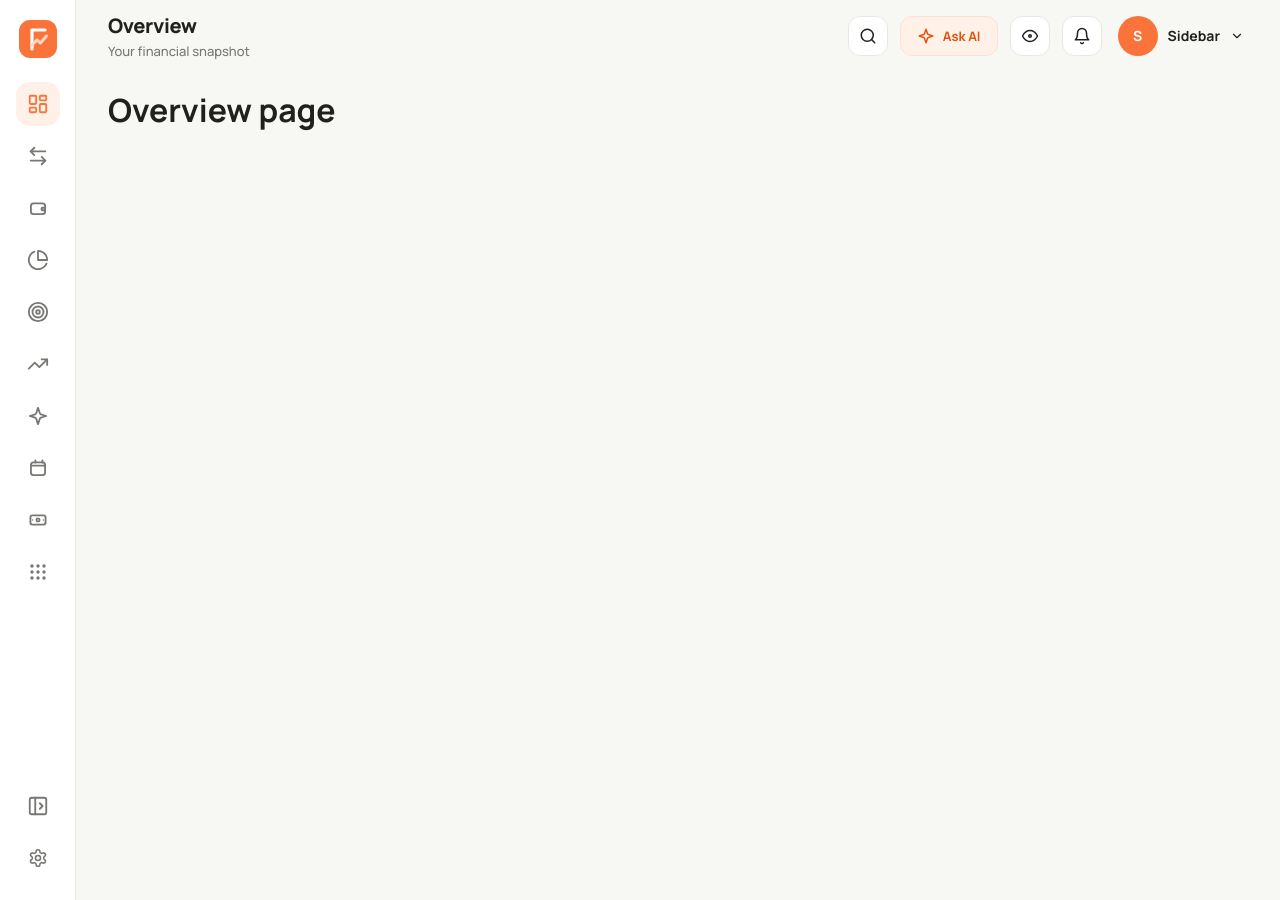
Test: starts minimized and supports keyboard toggle, tooltip and persistence
Press Tab
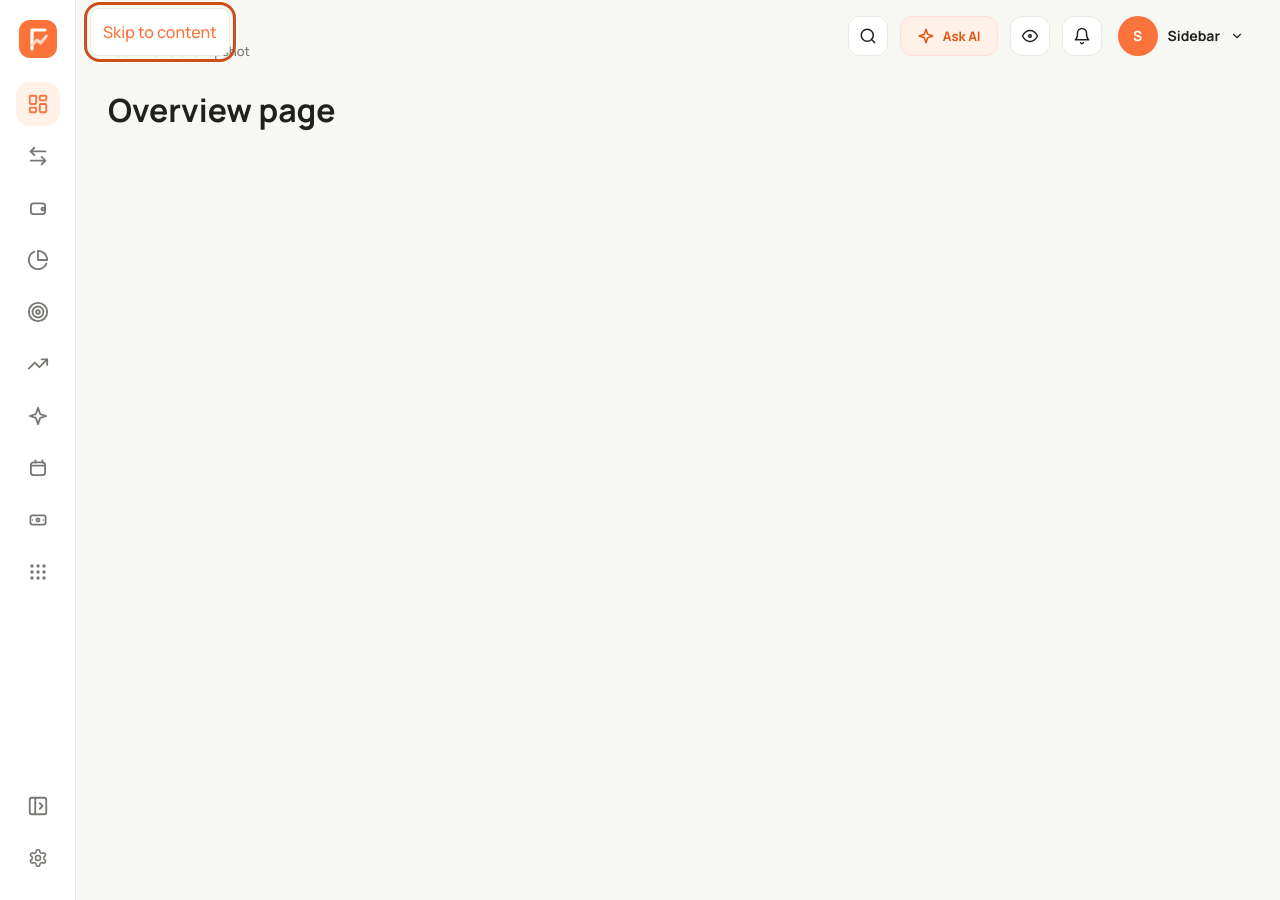
Press Tab
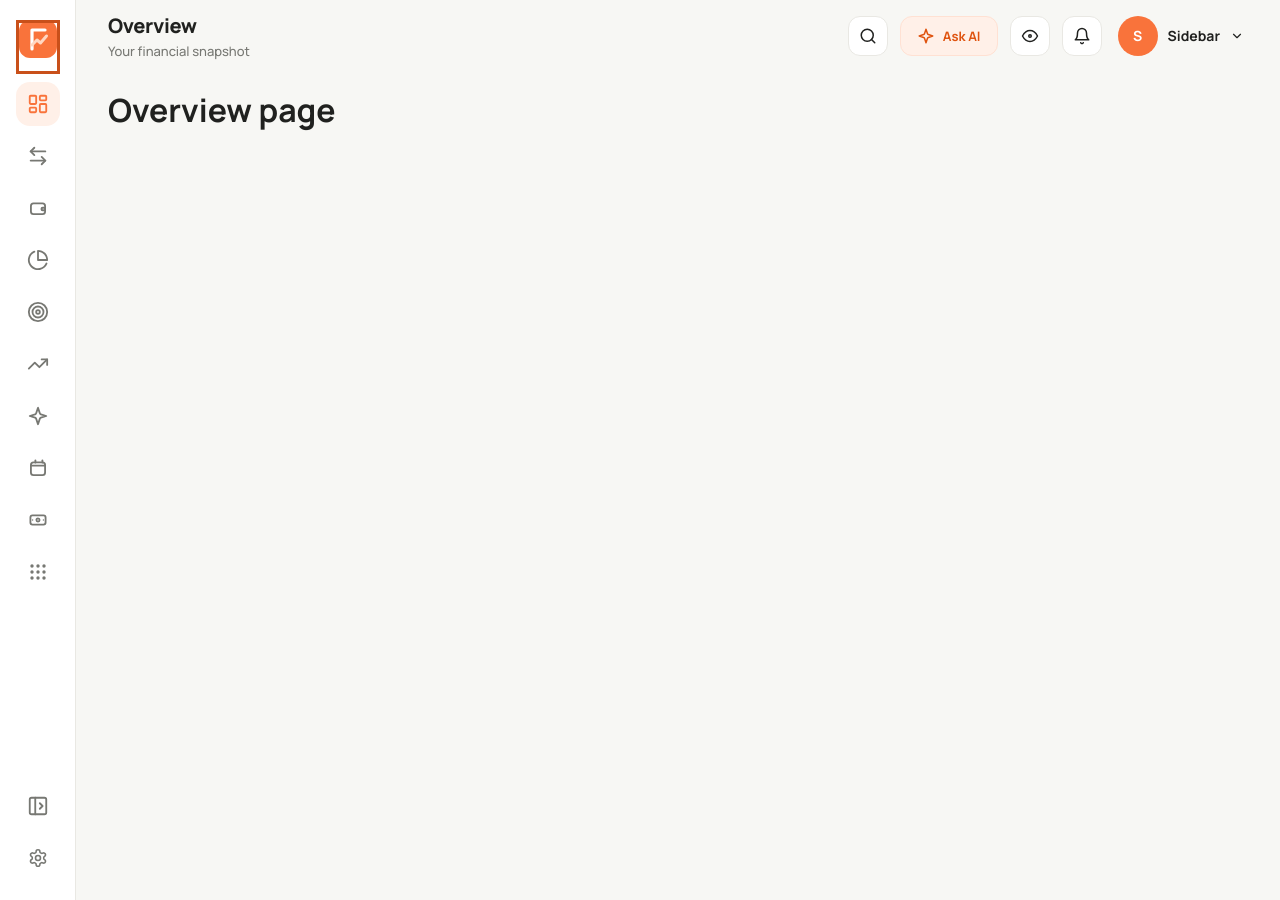
Hover over the button named "Expand sidebar" at (38, 806), box [16,784,60,828]
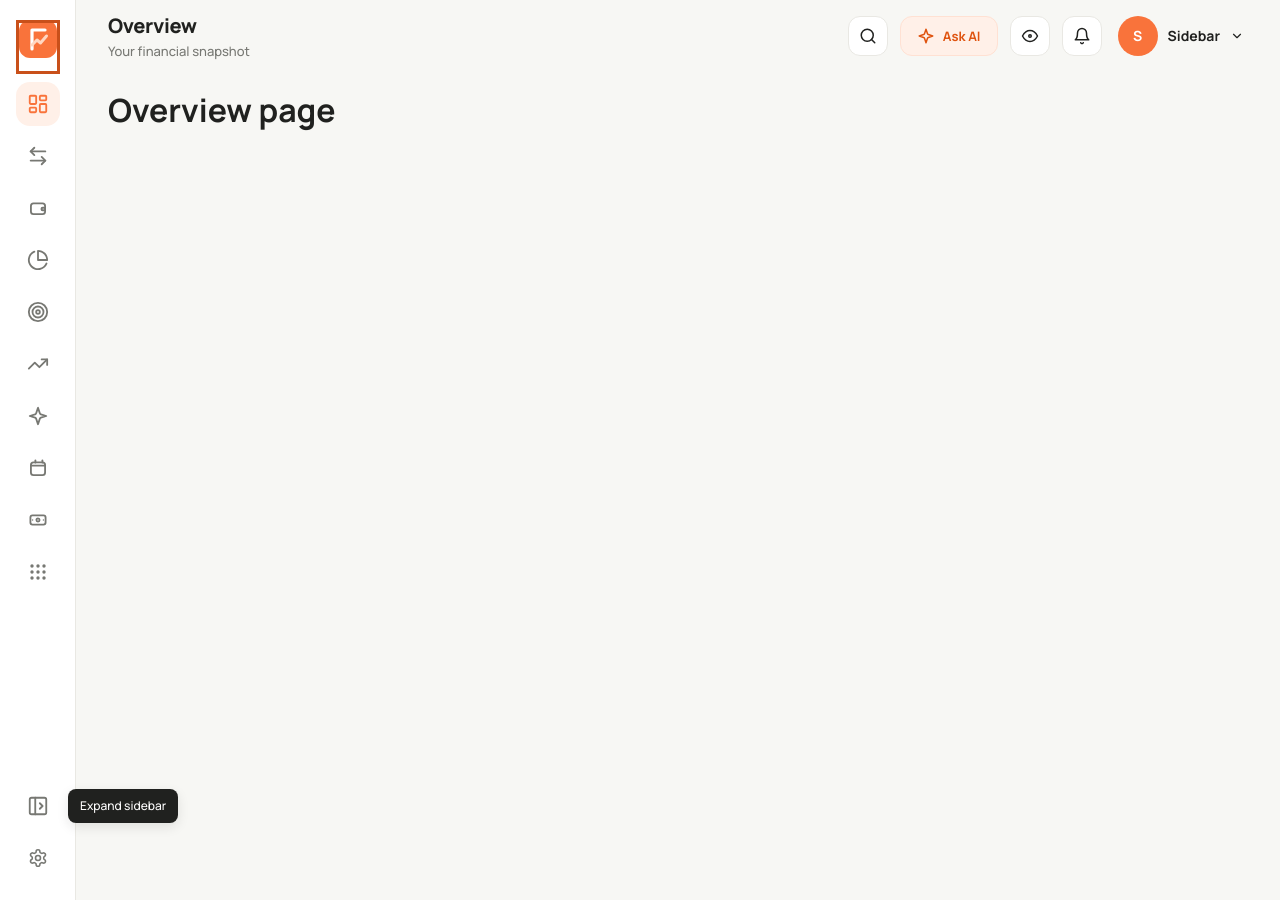
Expected: the tooltip reads "Expand sidebar", [80,797,166,814]
Press Escape
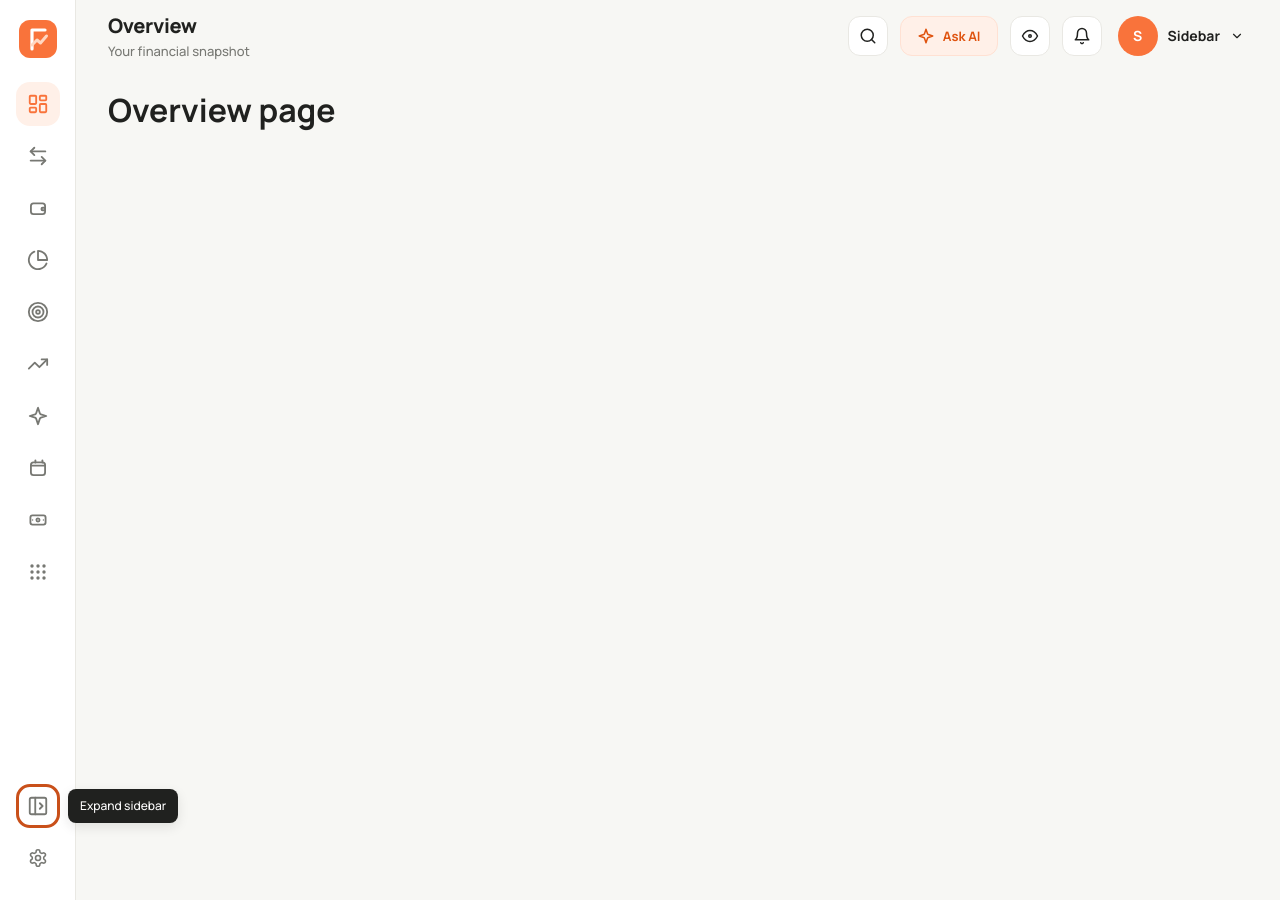
Press Enter
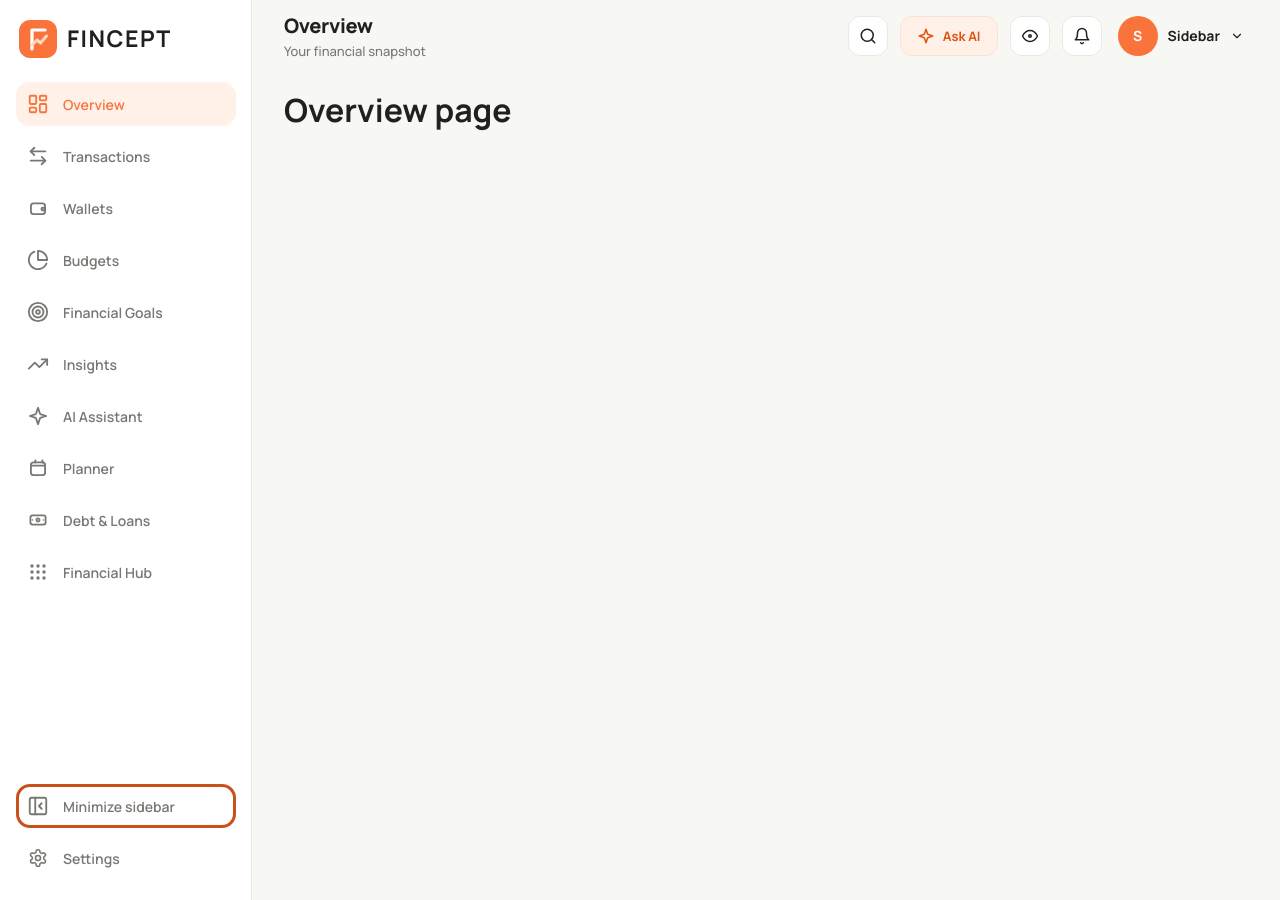
Expected: the button "Minimize sidebar" is expanded, [16,784,236,828]
Type keys " "
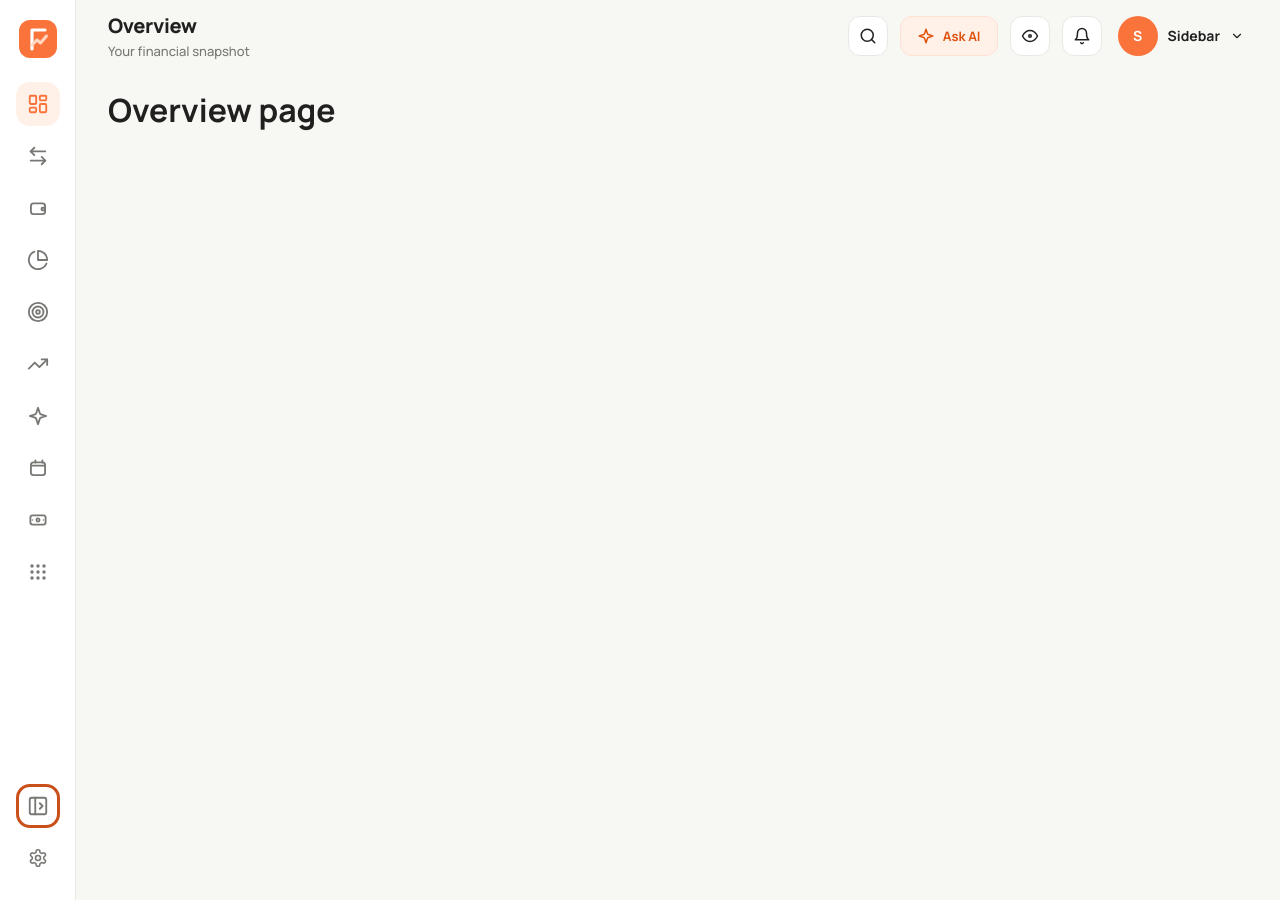
Expected: the button named "Expand sidebar" is shown, [16,784,60,828]
